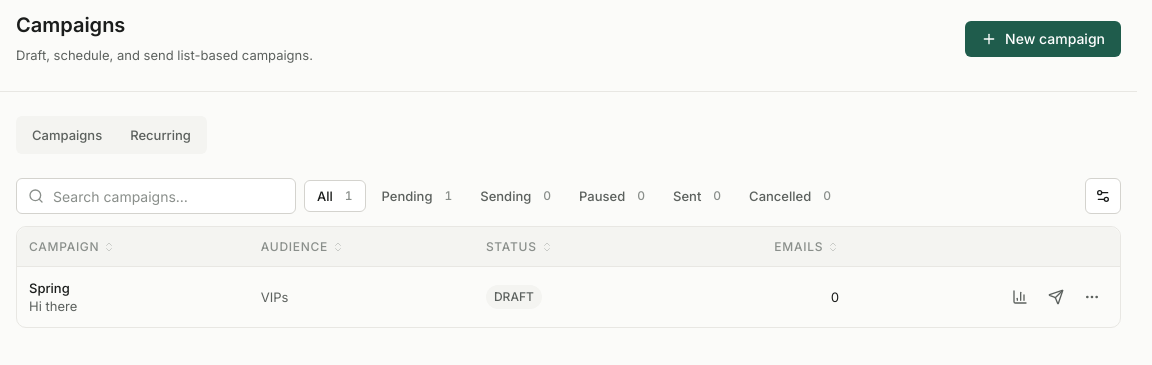
Scenario: Campaigns › shows a per-filter empty row
Expected: the text "Spring" is shown, 29,280 -> 70,296
Click the button "Paused 0" at [612, 196], box 567,180 -> 657,212
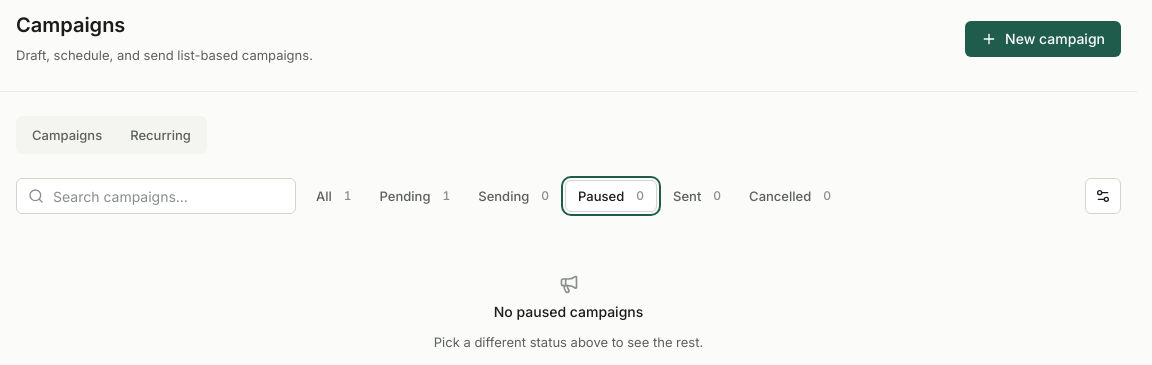
Result: the text "No paused campaigns" is shown at 494,302 -> 643,322
